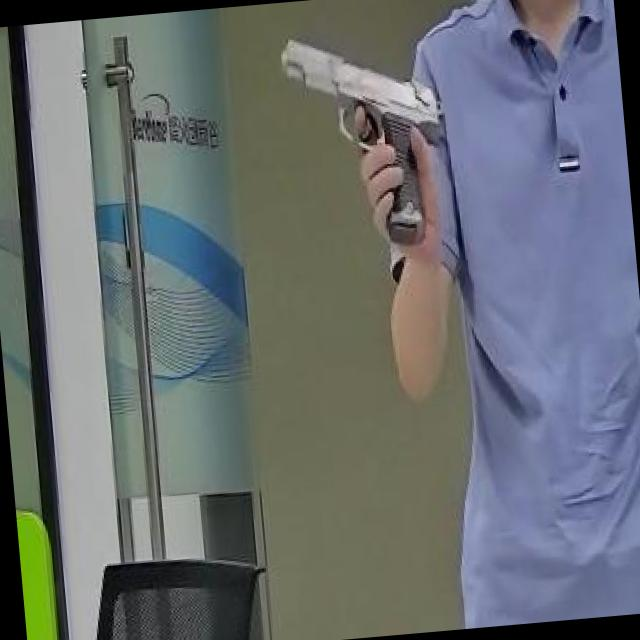Guns: (243, 0, 487, 275)
